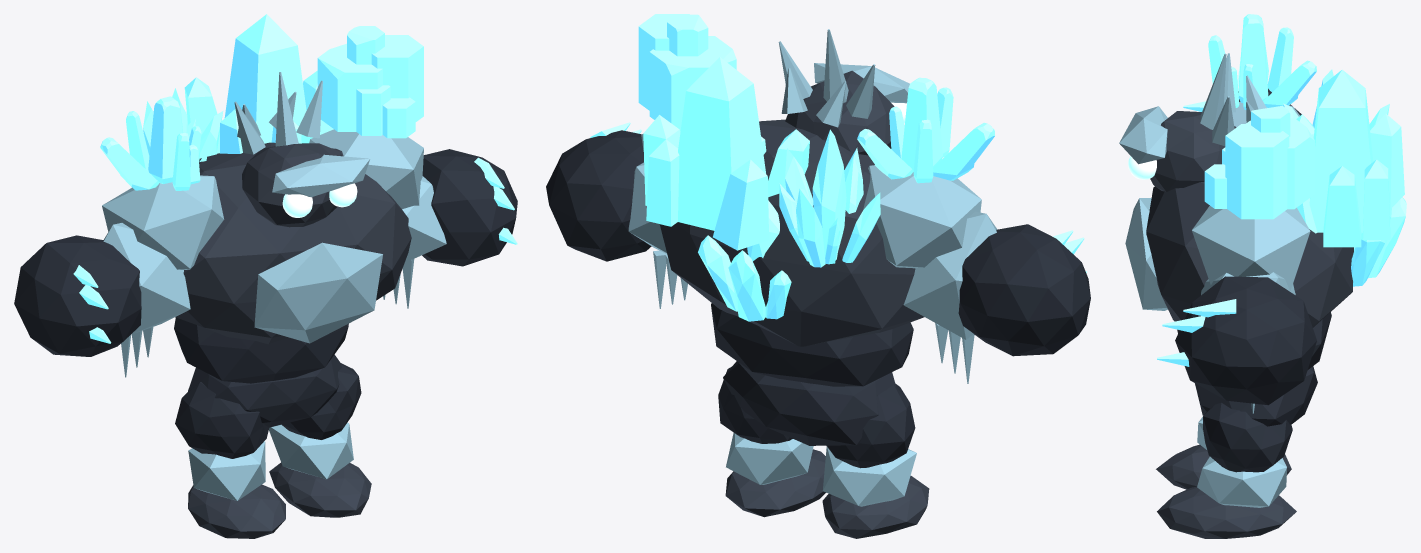
Rendered from bosses.glb.
3 views of the same model, side by side, from view 1: azimuth 30°, elevation 25°; view 2: azimuth 150°, elevation 25°; view 3: azimuth 270°, elevation 25° (orthographic). The views are drawn at different scales.
Parts seen in each view (by area): view 1: B_Titan_P1, B_Titan_P17, B_Titan_Crys3, B_Titan_P4, B_Titan_Crys0, B_Titan_P10, B_Titan_P14, B_Titan_P2, B_Titan_Crys4, B_Titan_P3, B_Titan_P18, B_Titan_P7 (+14 smaller); view 2: B_Titan_Crys0, B_Titan_P1, B_Titan_P17, B_Titan_P10, B_Titan_P2, B_Titan_P3, B_Titan_Crys1, B_Titan_Crys4, B_Titan_P14, B_Titan_Crys3, B_Titan_Crys2, B_Titan_P16 (+14 smaller); view 3: B_Titan_P10, B_Titan_Crys0, B_Titan_P1, B_Titan_Crys3, B_Titan_P7, B_Titan_Crys4, B_Titan_P13, B_Titan_P11, B_Titan_P5, B_Titan_P12, B_Titan_P3, B_Titan_P4 (+13 smaller).
Part boxes in pixels (<box>): B_Titan_P1: <box>175,142,411,344</box>; B_Titan_P17: <box>14,235,141,356</box>; B_Titan_Crys3: <box>317,26,423,138</box>; B_Titan_P4: <box>254,242,382,343</box>; B_Titan_Crys0: <box>184,14,333,153</box>; B_Titan_P10: <box>422,149,517,266</box>; B_Titan_P14: <box>102,175,224,269</box>; B_Titan_P2: <box>174,317,348,383</box>; B_Titan_Crys4: <box>100,96,201,190</box>; B_Titan_P3: <box>188,354,341,427</box>; B_Titan_P18: <box>175,382,269,458</box>; B_Titan_P7: <box>309,129,423,209</box>; B_Titan_Crys0: <box>643,57,809,250</box>; B_Titan_P1: <box>659,119,924,346</box>; B_Titan_P17: <box>958,224,1090,356</box>; B_Titan_P10: <box>546,130,651,261</box>; B_Titan_P2: <box>711,303,913,386</box>; B_Titan_P3: <box>723,361,896,445</box>; B_Titan_Crys1: <box>779,129,880,267</box>; B_Titan_Crys4: <box>857,77,994,183</box>; B_Titan_P14: <box>863,165,981,268</box>; B_Titan_Crys3: <box>638,14,736,131</box>; B_Titan_Crys2: <box>698,200,791,321</box>; B_Titan_P16: <box>903,211,997,339</box>; B_Titan_P10: <box>1175,276,1316,405</box>; B_Titan_Crys0: <box>1296,69,1404,247</box>; B_Titan_P1: <box>1146,181,1353,327</box>; B_Titan_Crys3: <box>1204,105,1314,219</box>; B_Titan_P7: <box>1192,206,1310,290</box>; B_Titan_Crys4: <box>1208,14,1316,109</box>; B_Titan_P13: <box>1157,486,1296,538</box>; B_Titan_P11: <box>1203,402,1292,472</box>; B_Titan_P5: <box>1150,111,1236,191</box>; B_Titan_P12: <box>1197,456,1286,507</box>; B_Titan_P3: <box>1195,366,1317,426</box>; B_Titan_P4: <box>1125,198,1167,310</box>.
Bounding box in the file's own units: 2.18 × 1.94 × 1.09.
